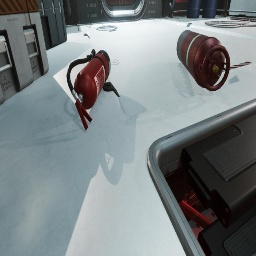FireExtinguisher ]: (67, 49, 111, 131)
NitrogenTank ,: (176, 30, 230, 91)
